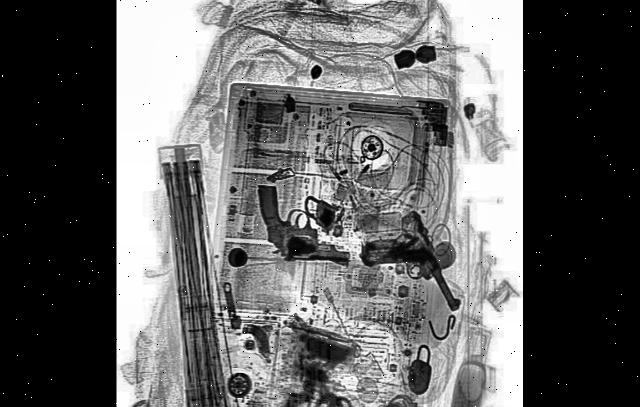Gun: (357, 187, 460, 370), (256, 184, 348, 264)
